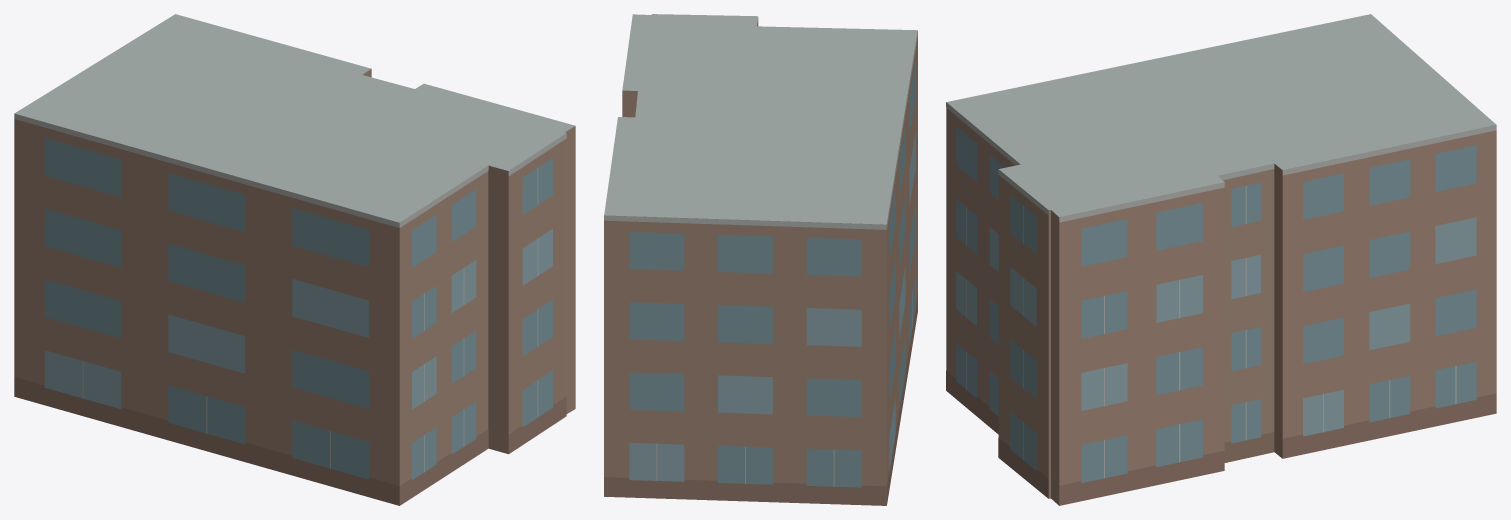
The model's file is survey-upis-32680222.glb.
The picture shows the model from 3 angles, left to right: view 1: azimuth 30°, elevation 25°; view 2: azimuth 150°, elevation 25°; view 3: azimuth 270°, elevation 25°; orthographic projection. The views are drawn at different scales.
Visible parts, largest first — view 1: survey-upis-32680222.tmp; view 2: survey-upis-32680222.tmp; view 3: survey-upis-32680222.tmp.
Part boxes in pixels (x1=…): survey-upis-32680222.tmp: x1=14, y1=14, x2=575, y2=505; survey-upis-32680222.tmp: x1=604, y1=14, x2=917, y2=505; survey-upis-32680222.tmp: x1=946, y1=14, x2=1496, y2=505.
Bounding box in the file's own units: 19.64 × 13 × 22.48.
